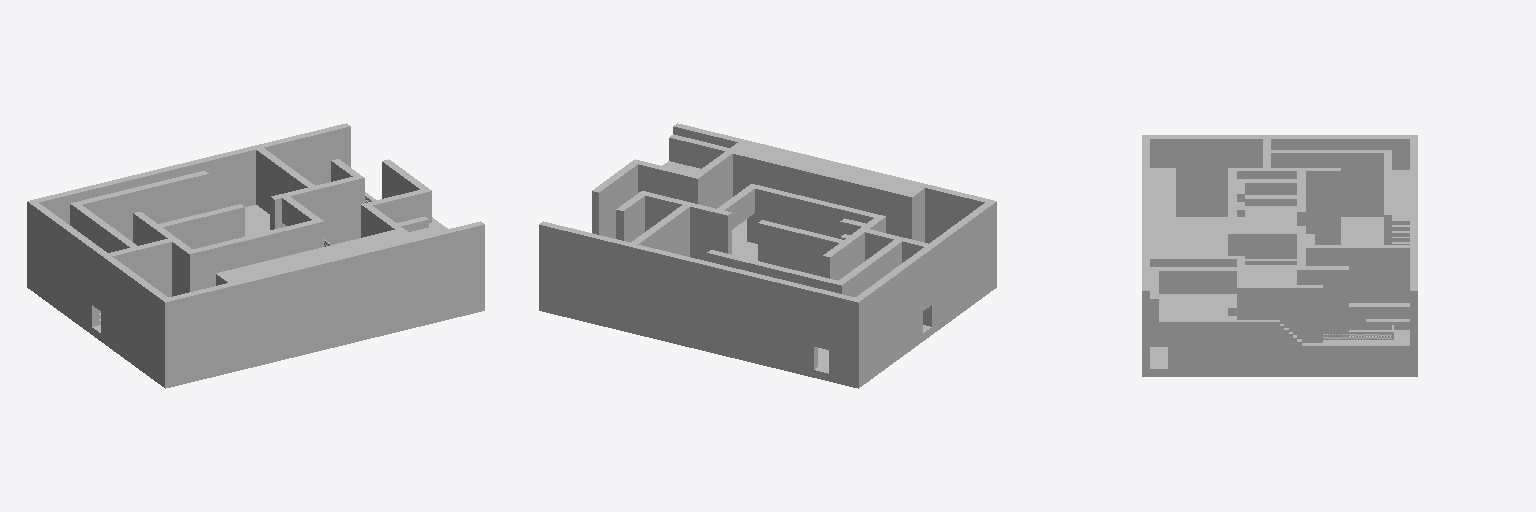
File: new_ivan_labyrinth_left.obj
3 views of the same model, side by side, from view 1: azimuth 30°, elevation 25°; view 2: azimuth 150°, elevation 25°; view 3: azimuth 270°, elevation 25° (orthographic).
Parts seen in each view (by area): view 1: object 1; view 2: object 1; view 3: object 1.
Part boxes in pixels (x1,y1,x2,y2): object 1: (27, 123, 484, 388); object 1: (539, 123, 996, 388); object 1: (1142, 135, 1417, 376).
Bounding box in the file's own units: 25.6 × 6.6 × 19.2.